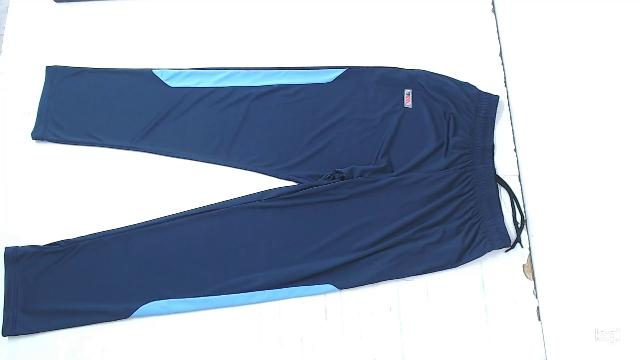new-garment: (2, 66, 524, 336)
